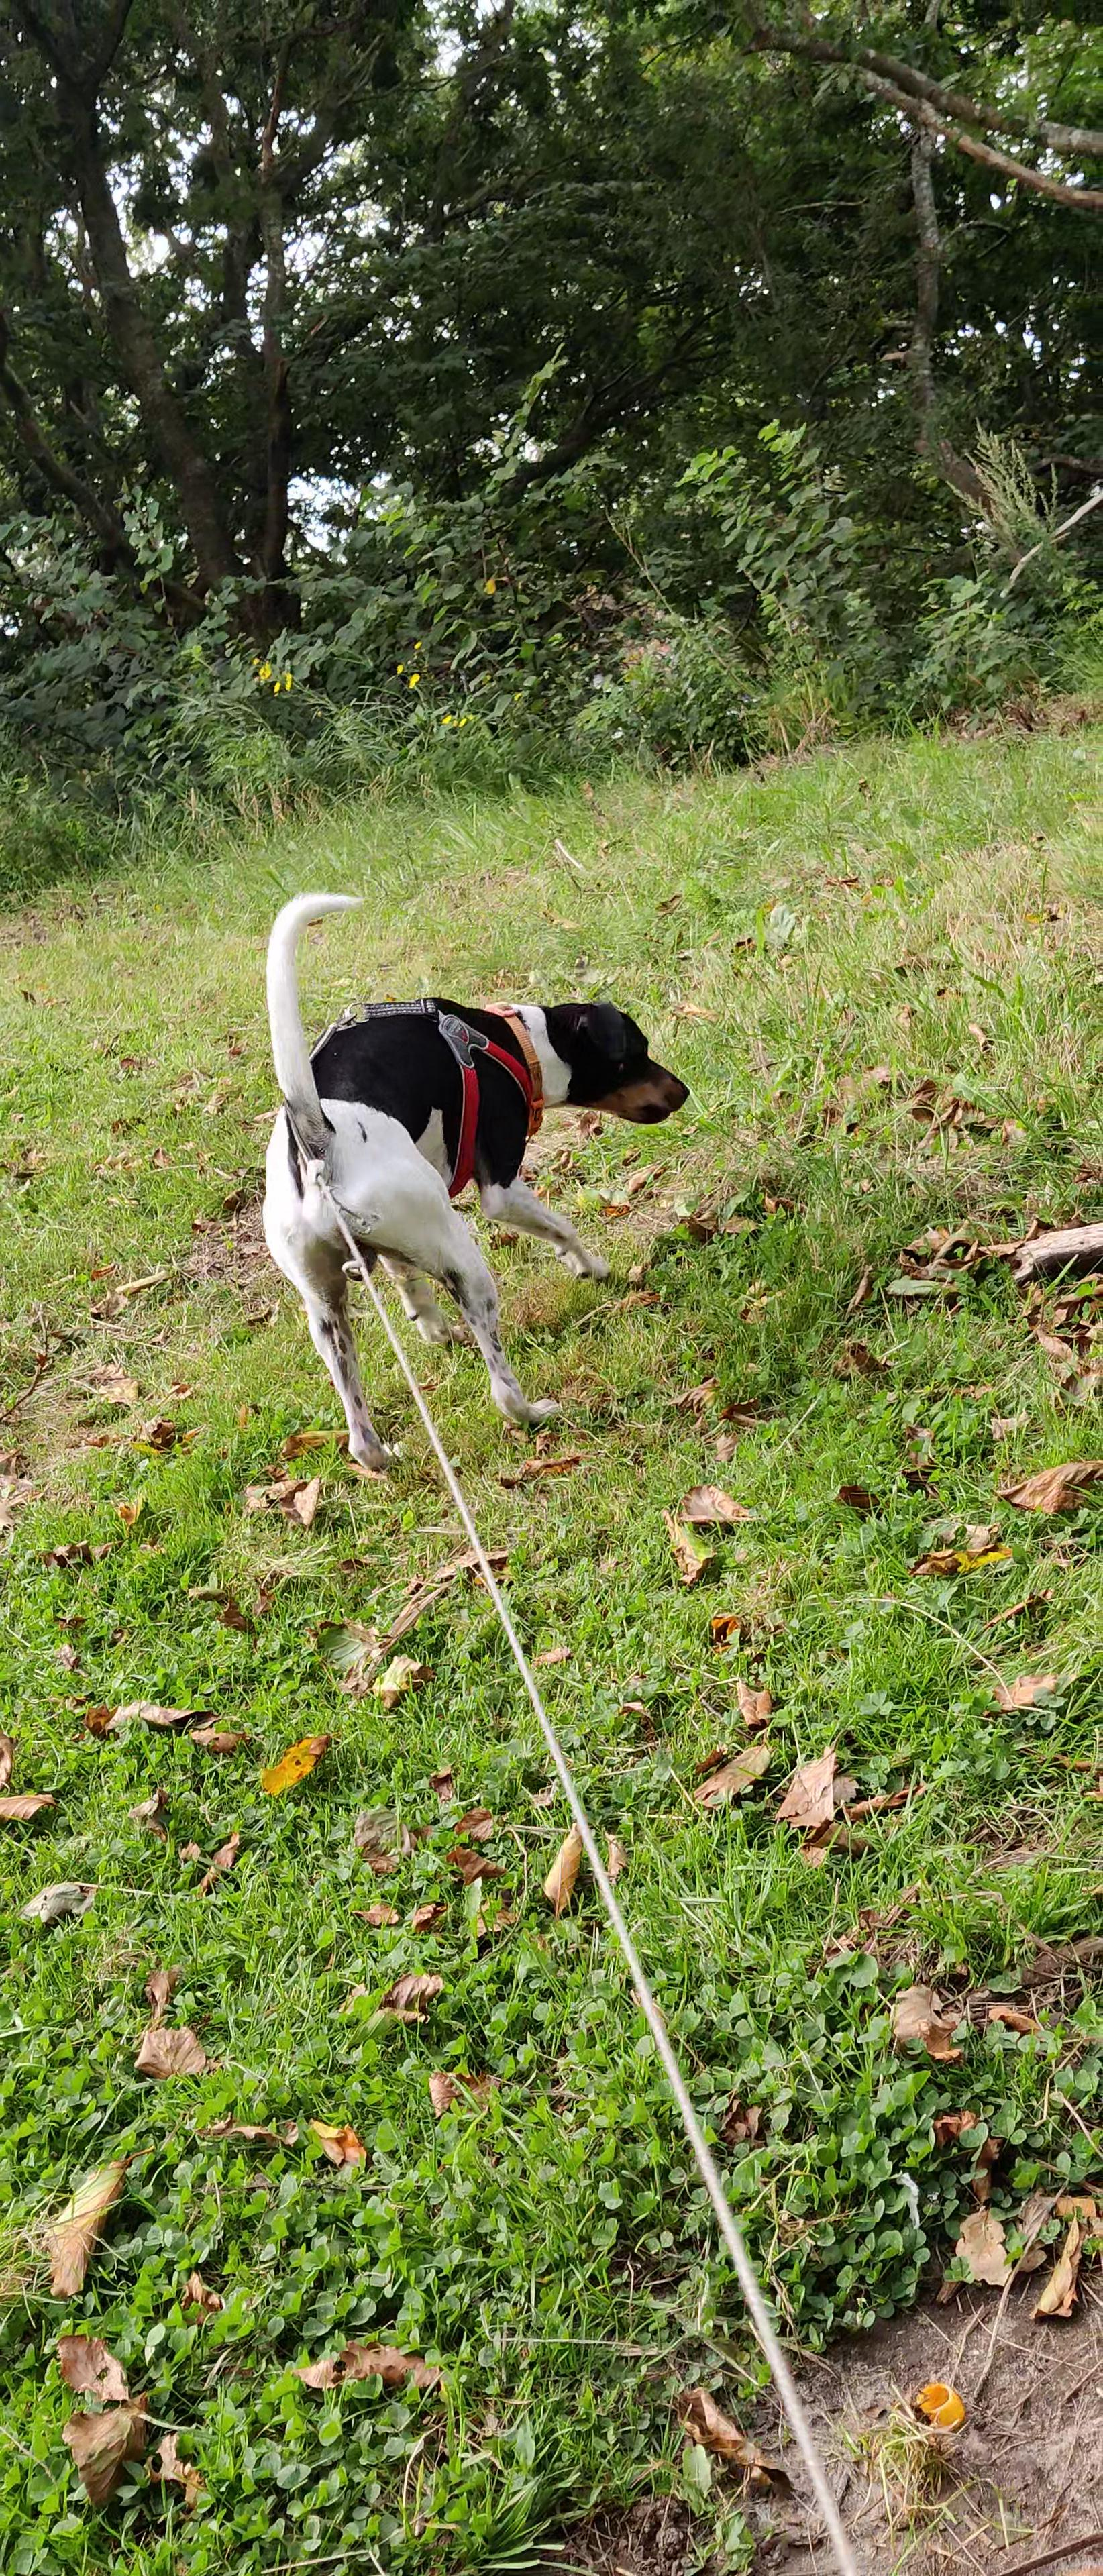Dog: (263, 887, 692, 1483)
